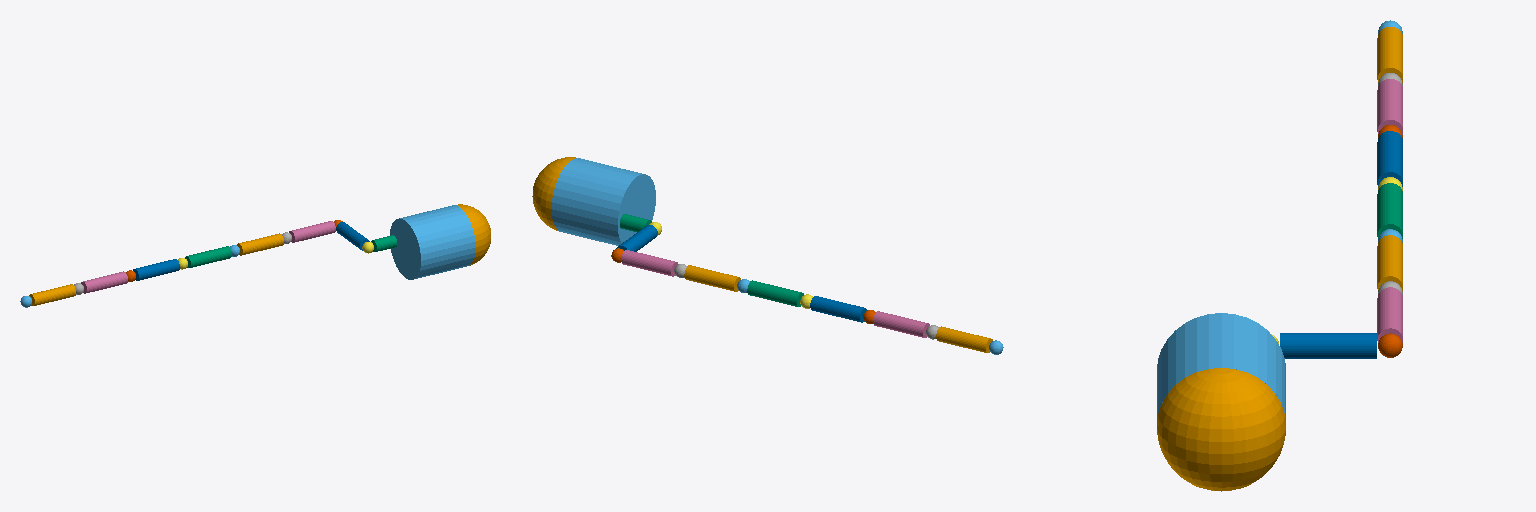
The robot description file, URDF, robot "sentinel/octopus_1_arms":
<?xml version="1.0"?>
<robot name="sentinel/octopus_1_arms">
<link name="eye">
  <inertial>
   <mass value="1"/>
   <inertia ixx="0.004000000000000001" ixy="0" ixz="0" iyy="0.004000000000000001" iyz="0" izz="0.004000000000000001"/>
  </inertial>
  <collision>
    <origin rpy="0 0 0" xyz="0 0 0"/>
    <geometry>
      <sphere radius="0.1"/>
    </geometry>
  </collision>
  <visual>
    <origin rpy="0 0 0" xyz="0 0 0"/>
    <geometry>
      <sphere radius="0.1"/>
    </geometry>
  </visual>
</link>

 <link name="head">
  <inertial>
    <mass value="1"/>
    <inertia ixx="0.0058333333333333345" ixy="0" ixz="0" iyy="0.0058333333333333345" iyz="0" izz="0.0025000000000000005"/>
  </inertial>
  <visual>
    <origin rpy="0 1.57 0" xyz="-0.1 0 0"/>
    <geometry>
      <cylinder length="0.2" radius="0.1"/>
    </geometry>
  </visual>
  <collision>
    <origin rpy="0 1.57 0" xyz="-0.1 0 0"/>
    <geometry>
      <cylinder length="0.2" radius="0.1"/>
    </geometry>
  </collision>
 </link>

<joint name="joint_fixed_eye_head" type="fixed">
  <origin rpy="0 0 0" xyz="0 0 0"/>
  <parent link="eye"/>
  <child link="head"/>
</joint>

<!--############################################################################
branch_00
##############################################################################-->
 <link name="branch_00_cylinder_stub">
  <inertial>
    <mass value="1"/>
    <inertia ixx="0.0005687499999999999" ixy="0" ixz="0" iyy="0.0005687499999999999" iyz="0" izz="0.0001"/>
  </inertial>
  <visual>
    <origin rpy="0 1.57 0" xyz="-0.0375 0 0"/>
    <geometry>
      <cylinder length="0.075" radius="0.02"/>
    </geometry>
  </visual>
  <collision>
    <origin rpy="0 1.57 0" xyz="-0.0375 0 0"/>
    <geometry>
      <cylinder length="0.075" radius="0.02"/>
    </geometry>
  </collision>
 </link>

<joint name="joint_fixed_head_branch_00_cylinder_stub" type="fixed">
  <origin rpy="0 0 0" xyz="-0.2 0.06999999999999999 0.0"/>
  <parent link="head"/>
  <child link="branch_00_cylinder_stub"/>
</joint>

<link name="branch_00_sphere_stub">
  <inertial>
   <mass value="1"/>
   <inertia ixx="0.00014439999999999999" ixy="0" ixz="0" iyy="0.00014439999999999999" iyz="0" izz="0.00014439999999999999"/>
  </inertial>
  <collision>
    <origin rpy="0 0 0" xyz="-0.095 0 0"/>
    <geometry>
      <sphere radius="0.019"/>
    </geometry>
  </collision>
  <visual>
    <origin rpy="0 0 0" xyz="-0.095 0 0"/>
    <geometry>
      <sphere radius="0.019"/>
    </geometry>
  </visual>
</link>

<joint name="joint_fixed_branch_00_cylinder_stub_branch_00_sphere_stub" type="fixed">
  <origin rpy="0 0 0" xyz="0 0 0"/>
  <parent link="branch_00_cylinder_stub"/>
  <child link="branch_00_sphere_stub"/>
</joint>

 <link name="branch_00_cylinder">
  <inertial>
    <mass value="1"/>
    <inertia ixx="0.0019749999999999998" ixy="0" ixz="0" iyy="0.0019749999999999998" iyz="0" izz="0.0001"/>
  </inertial>
  <visual>
    <origin rpy="0 1.5707963267948966 1.57" xyz="-0.095 0.095 0.0"/>
    <geometry>
      <cylinder length="0.15" radius="0.02"/>
    </geometry>
  </visual>
  <collision>
    <origin rpy="0 1.5707963267948966 1.57" xyz="-0.095 0.095 0.0"/>
    <geometry>
      <cylinder length="0.15" radius="0.02"/>
    </geometry>
  </collision>
 </link>

<joint name="joint_fixed_branch_00_sphere_stub_branch_00_cylinder" type="fixed">
  <origin rpy="0 0 0" xyz="0 0 0"/>
  <parent link="branch_00_sphere_stub"/>
  <child link="branch_00_cylinder"/>
</joint>

<link name="branch_00">
  <inertial>
   <mass value="1"/>
   <inertia ixx="0.00014439999999999999" ixy="0" ixz="0" iyy="0.00014439999999999999" iyz="0" izz="0.00014439999999999999"/>
  </inertial>
  <collision>
    <origin rpy="0 0 0" xyz="0 0 0"/>
    <geometry>
      <sphere radius="0.019"/>
    </geometry>
  </collision>
  <visual>
    <origin rpy="0 0 0" xyz="0 0 0"/>
    <geometry>
      <sphere radius="0.019"/>
    </geometry>
  </visual>
</link>

<joint name="joint_fixed_branch_00_cylinder_branch_00" type="fixed">
  <origin rpy="0 0 0" xyz="-0.095 0.19 0.0"/>
  <parent link="branch_00_cylinder"/>
  <child link="branch_00"/>
</joint>

<!--############################################################################
branch_01
##############################################################################-->
 <link name="branch_01_cylinder">
  <inertial>
    <mass value="1"/>
    <inertia ixx="0.0019749999999999998" ixy="0" ixz="0" iyy="0.0019749999999999998" iyz="0" izz="0.0001"/>
  </inertial>
  <visual>
    <origin rpy="0 1.57 0" xyz="-0.095 0 0"/>
    <geometry>
      <cylinder length="0.15" radius="0.02"/>
    </geometry>
  </visual>
  <collision>
    <origin rpy="0 1.57 0" xyz="-0.095 0 0"/>
    <geometry>
      <cylinder length="0.15" radius="0.02"/>
    </geometry>
  </collision>
 </link>

<joint name="joint_revolute_branch_00_branch_01_cylinder_Z" type="revolute">
  <origin rpy="0 0 0" xyz="0 0 0"/>
  <parent link="branch_00"/>
  <child link="branch_01_cylinder"/>
  <axis xyz="0 0.0 -1.0"/>
  <dynamics damping="0.01" friction="0.5"/>
  <limit lower="-1.5707963267948966" upper="1.5707963267948966" effort="0.01" velocity="100"/>
</joint>

<link name="branch_01">
  <inertial>
   <mass value="1"/>
   <inertia ixx="0.00014439999999999999" ixy="0" ixz="0" iyy="0.00014439999999999999" iyz="0" izz="0.00014439999999999999"/>
  </inertial>
  <collision>
    <origin rpy="0 0 0" xyz="0 0 0"/>
    <geometry>
      <sphere radius="0.019"/>
    </geometry>
  </collision>
  <visual>
    <origin rpy="0 0 0" xyz="0 0 0"/>
    <geometry>
      <sphere radius="0.019"/>
    </geometry>
  </visual>
</link>

<joint name="joint_fixed_branch_01_cylinder_branch_01" type="fixed">
  <origin rpy="0 0 0" xyz="-0.19 0 0"/>
  <parent link="branch_01_cylinder"/>
  <child link="branch_01"/>
</joint>

<!--############################################################################
branch_02
##############################################################################-->
 <link name="branch_02_cylinder">
  <inertial>
    <mass value="1"/>
    <inertia ixx="0.0019749999999999998" ixy="0" ixz="0" iyy="0.0019749999999999998" iyz="0" izz="0.0001"/>
  </inertial>
  <visual>
    <origin rpy="0 1.57 0" xyz="-0.095 0 0"/>
    <geometry>
      <cylinder length="0.15" radius="0.02"/>
    </geometry>
  </visual>
  <collision>
    <origin rpy="0 1.57 0" xyz="-0.095 0 0"/>
    <geometry>
      <cylinder length="0.15" radius="0.02"/>
    </geometry>
  </collision>
 </link>

<joint name="joint_revolute_branch_01_branch_02_cylinder_Z" type="revolute">
  <origin rpy="0 0 0" xyz="0 0 0"/>
  <parent link="branch_01"/>
  <child link="branch_02_cylinder"/>
  <axis xyz="0 0.0 -1.0"/>
  <dynamics damping="0.01" friction="0.5"/>
  <limit lower="-1.5707963267948966" upper="1.5707963267948966" effort="0.01" velocity="100"/>
</joint>

<link name="branch_02">
  <inertial>
   <mass value="1"/>
   <inertia ixx="0.00014439999999999999" ixy="0" ixz="0" iyy="0.00014439999999999999" iyz="0" izz="0.00014439999999999999"/>
  </inertial>
  <collision>
    <origin rpy="0 0 0" xyz="0 0 0"/>
    <geometry>
      <sphere radius="0.019"/>
    </geometry>
  </collision>
  <visual>
    <origin rpy="0 0 0" xyz="0 0 0"/>
    <geometry>
      <sphere radius="0.019"/>
    </geometry>
  </visual>
</link>

<joint name="joint_fixed_branch_02_cylinder_branch_02" type="fixed">
  <origin rpy="0 0 0" xyz="-0.19 0 0"/>
  <parent link="branch_02_cylinder"/>
  <child link="branch_02"/>
</joint>

<!--############################################################################
branch_03
##############################################################################-->
 <link name="branch_03_cylinder">
  <inertial>
    <mass value="1"/>
    <inertia ixx="0.0019749999999999998" ixy="0" ixz="0" iyy="0.0019749999999999998" iyz="0" izz="0.0001"/>
  </inertial>
  <visual>
    <origin rpy="0 1.57 0" xyz="-0.095 0 0"/>
    <geometry>
      <cylinder length="0.15" radius="0.02"/>
    </geometry>
  </visual>
  <collision>
    <origin rpy="0 1.57 0" xyz="-0.095 0 0"/>
    <geometry>
      <cylinder length="0.15" radius="0.02"/>
    </geometry>
  </collision>
 </link>

<joint name="joint_revolute_branch_02_branch_03_cylinder_Z" type="revolute">
  <origin rpy="0 0 0" xyz="0 0 0"/>
  <parent link="branch_02"/>
  <child link="branch_03_cylinder"/>
  <axis xyz="0 0.0 -1.0"/>
  <dynamics damping="0.01" friction="0.5"/>
  <limit lower="-1.5707963267948966" upper="1.5707963267948966" effort="0.01" velocity="100"/>
</joint>

<link name="branch_03">
  <inertial>
   <mass value="1"/>
   <inertia ixx="0.00014439999999999999" ixy="0" ixz="0" iyy="0.00014439999999999999" iyz="0" izz="0.00014439999999999999"/>
  </inertial>
  <collision>
    <origin rpy="0 0 0" xyz="0 0 0"/>
    <geometry>
      <sphere radius="0.019"/>
    </geometry>
  </collision>
  <visual>
    <origin rpy="0 0 0" xyz="0 0 0"/>
    <geometry>
      <sphere radius="0.019"/>
    </geometry>
  </visual>
</link>

<joint name="joint_fixed_branch_03_cylinder_branch_03" type="fixed">
  <origin rpy="0 0 0" xyz="-0.19 0 0"/>
  <parent link="branch_03_cylinder"/>
  <child link="branch_03"/>
</joint>

<!--############################################################################
branch_04
##############################################################################-->
 <link name="branch_04_cylinder">
  <inertial>
    <mass value="1"/>
    <inertia ixx="0.0019749999999999998" ixy="0" ixz="0" iyy="0.0019749999999999998" iyz="0" izz="0.0001"/>
  </inertial>
  <visual>
    <origin rpy="0 1.57 0" xyz="-0.095 0 0"/>
    <geometry>
      <cylinder length="0.15" radius="0.02"/>
    </geometry>
  </visual>
  <collision>
    <origin rpy="0 1.57 0" xyz="-0.095 0 0"/>
    <geometry>
      <cylinder length="0.15" radius="0.02"/>
    </geometry>
  </collision>
 </link>

<joint name="joint_revolute_branch_03_branch_04_cylinder_Z" type="revolute">
  <origin rpy="0 0 0" xyz="0 0 0"/>
  <parent link="branch_03"/>
  <child link="branch_04_cylinder"/>
  <axis xyz="0 0.0 -1.0"/>
  <dynamics damping="0.01" friction="0.5"/>
  <limit lower="-1.5707963267948966" upper="1.5707963267948966" effort="0.01" velocity="100"/>
</joint>

<link name="branch_04">
  <inertial>
   <mass value="1"/>
   <inertia ixx="0.00014439999999999999" ixy="0" ixz="0" iyy="0.00014439999999999999" iyz="0" izz="0.00014439999999999999"/>
  </inertial>
  <collision>
    <origin rpy="0 0 0" xyz="0 0 0"/>
    <geometry>
      <sphere radius="0.019"/>
    </geometry>
  </collision>
  <visual>
    <origin rpy="0 0 0" xyz="0 0 0"/>
    <geometry>
      <sphere radius="0.019"/>
    </geometry>
  </visual>
</link>

<joint name="joint_fixed_branch_04_cylinder_branch_04" type="fixed">
  <origin rpy="0 0 0" xyz="-0.19 0 0"/>
  <parent link="branch_04_cylinder"/>
  <child link="branch_04"/>
</joint>

<!--############################################################################
branch_05
##############################################################################-->
 <link name="branch_05_cylinder">
  <inertial>
    <mass value="1"/>
    <inertia ixx="0.0019749999999999998" ixy="0" ixz="0" iyy="0.0019749999999999998" iyz="0" izz="0.0001"/>
  </inertial>
  <visual>
    <origin rpy="0 1.57 0" xyz="-0.095 0 0"/>
    <geometry>
      <cylinder length="0.15" radius="0.02"/>
    </geometry>
  </visual>
  <collision>
    <origin rpy="0 1.57 0" xyz="-0.095 0 0"/>
    <geometry>
      <cylinder length="0.15" radius="0.02"/>
    </geometry>
  </collision>
 </link>

<joint name="joint_revolute_branch_04_branch_05_cylinder_Z" type="revolute">
  <origin rpy="0 0 0" xyz="0 0 0"/>
  <parent link="branch_04"/>
  <child link="branch_05_cylinder"/>
  <axis xyz="0 0.0 -1.0"/>
  <dynamics damping="0.01" friction="0.5"/>
  <limit lower="-1.5707963267948966" upper="1.5707963267948966" effort="0.01" velocity="100"/>
</joint>

<link name="branch_05">
  <inertial>
   <mass value="1"/>
   <inertia ixx="0.00014439999999999999" ixy="0" ixz="0" iyy="0.00014439999999999999" iyz="0" izz="0.00014439999999999999"/>
  </inertial>
  <collision>
    <origin rpy="0 0 0" xyz="0 0 0"/>
    <geometry>
      <sphere radius="0.019"/>
    </geometry>
  </collision>
  <visual>
    <origin rpy="0 0 0" xyz="0 0 0"/>
    <geometry>
      <sphere radius="0.019"/>
    </geometry>
  </visual>
</link>

<joint name="joint_fixed_branch_05_cylinder_branch_05" type="fixed">
  <origin rpy="0 0 0" xyz="-0.19 0 0"/>
  <parent link="branch_05_cylinder"/>
  <child link="branch_05"/>
</joint>

<!--############################################################################
branch_06
##############################################################################-->
 <link name="branch_06_cylinder">
  <inertial>
    <mass value="1"/>
    <inertia ixx="0.0019749999999999998" ixy="0" ixz="0" iyy="0.0019749999999999998" iyz="0" izz="0.0001"/>
  </inertial>
  <visual>
    <origin rpy="0 1.57 0" xyz="-0.095 0 0"/>
    <geometry>
      <cylinder length="0.15" radius="0.02"/>
    </geometry>
  </visual>
  <collision>
    <origin rpy="0 1.57 0" xyz="-0.095 0 0"/>
    <geometry>
      <cylinder length="0.15" radius="0.02"/>
    </geometry>
  </collision>
 </link>

<joint name="joint_revolute_branch_05_branch_06_cylinder_Z" type="revolute">
  <origin rpy="0 0 0" xyz="0 0 0"/>
  <parent link="branch_05"/>
  <child link="branch_06_cylinder"/>
  <axis xyz="0 0.0 -1.0"/>
  <dynamics damping="0.01" friction="0.5"/>
  <limit lower="-1.5707963267948966" upper="1.5707963267948966" effort="0.01" velocity="100"/>
</joint>

<link name="branch_06">
  <inertial>
   <mass value="1"/>
   <inertia ixx="0.00014439999999999999" ixy="0" ixz="0" iyy="0.00014439999999999999" iyz="0" izz="0.00014439999999999999"/>
  </inertial>
  <collision>
    <origin rpy="0 0 0" xyz="0 0 0"/>
    <geometry>
      <sphere radius="0.019"/>
    </geometry>
  </collision>
  <visual>
    <origin rpy="0 0 0" xyz="0 0 0"/>
    <geometry>
      <sphere radius="0.019"/>
    </geometry>
  </visual>
</link>

<joint name="joint_fixed_branch_06_cylinder_branch_06" type="fixed">
  <origin rpy="0 0 0" xyz="-0.19 0 0"/>
  <parent link="branch_06_cylinder"/>
  <child link="branch_06"/>
</joint>

  <klampt package_root="../../.." default_acc_max="4" >
  </klampt>
</robot>

--- What the picture shows (computed from the rendered views, not written in the file) ---
The picture shows the robot from 3 angles, left to right: view 1: azimuth 30°, elevation 25°; view 2: azimuth 150°, elevation 25°; view 3: azimuth 270°, elevation 25°; orthographic projection.
Robot: sentinel/octopus_1_arms — 18 links, 17 joints (6 revolute, 11 fixed); root link eye; default pose: all joints at 0.
Links seen in each view (by area): view 1: head, eye, branch_02_cylinder, branch_05_cylinder, branch_03_cylinder, branch_04_cylinder, branch_06_cylinder, branch_01_cylinder; view 2: head, eye, branch_05_cylinder, branch_01_cylinder, branch_04_cylinder, branch_02_cylinder, branch_06_cylinder, branch_03_cylinder, branch_00_cylinder; view 3: eye, head, branch_00_cylinder, branch_04_cylinder, branch_03_cylinder, branch_06_cylinder, branch_05_cylinder, branch_01_cylinder, branch_02_cylinder.
Link boxes in pixels (x1=…): head: x1=390, y1=205, x2=475, y2=279; eye: x1=457, y1=204, x2=490, y2=265; branch_02_cylinder: x1=237, y1=233, x2=283, y2=255; branch_05_cylinder: x1=81, y1=271, x2=127, y2=293; branch_03_cylinder: x1=185, y1=246, x2=231, y2=267; branch_04_cylinder: x1=133, y1=259, x2=179, y2=280; branch_06_cylinder: x1=29, y1=284, x2=75, y2=305; branch_01_cylinder: x1=289, y1=221, x2=335, y2=242; head: x1=552, y1=158, x2=655, y2=245; eye: x1=532, y1=157, x2=575, y2=231; branch_05_cylinder: x1=873, y1=311, x2=929, y2=337; branch_01_cylinder: x1=621, y1=250, x2=677, y2=276; branch_04_cylinder: x1=810, y1=296, x2=866, y2=322; branch_02_cylinder: x1=684, y1=265, x2=740, y2=291; branch_06_cylinder: x1=936, y1=326, x2=992, y2=352; branch_03_cylinder: x1=747, y1=280, x2=803, y2=306; branch_00_cylinder: x1=616, y1=225, x2=657, y2=251; eye: x1=1157, y1=368, x2=1285, y2=491; head: x1=1157, y1=313, x2=1285, y2=417; branch_00_cylinder: x1=1280, y1=333, x2=1376, y2=358; branch_04_cylinder: x1=1377, y1=131, x2=1402, y2=186; branch_03_cylinder: x1=1377, y1=183, x2=1402, y2=238; branch_06_cylinder: x1=1377, y1=27, x2=1402, y2=82; branch_05_cylinder: x1=1377, y1=79, x2=1402, y2=134; branch_01_cylinder: x1=1377, y1=287, x2=1402, y2=342; branch_02_cylinder: x1=1377, y1=235, x2=1402, y2=290.
Bounding box of the posed robot: 1.55 × 0.38 × 0.2002 m (x, y, z).
Geometry: primitives only (box / cylinder / sphere), no mesh files.